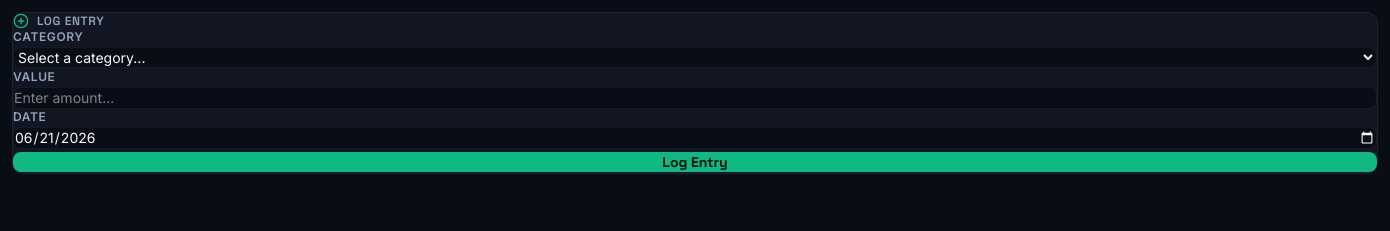
LogEntryForm Component › displays category-specific type selector when category is selected
Select "🚗 Transport — Emissions from travel and commuting" in the dropdown labelled "Category". click: [695, 58]
box: [13,47,1377,68]
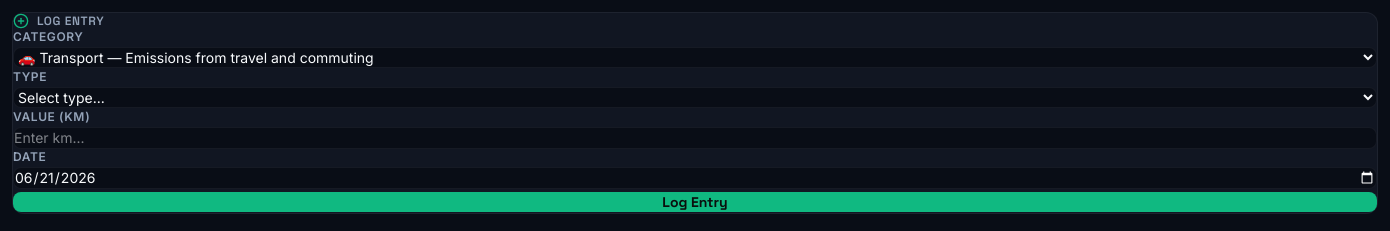
Now the dropdown labelled "Type" is shown, box [13,87,1377,108]
